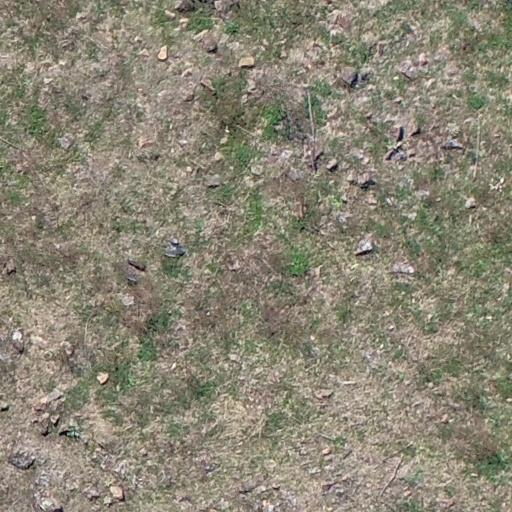stone: (8, 448, 36, 470), (355, 232, 377, 256), (38, 494, 63, 511), (201, 172, 223, 191), (389, 262, 415, 276), (200, 33, 218, 52), (58, 426, 82, 440), (58, 133, 76, 151), (213, 0, 235, 14), (342, 66, 357, 86), (108, 484, 125, 501), (238, 55, 258, 69), (174, 0, 196, 12), (400, 65, 416, 81), (286, 167, 303, 182), (388, 125, 402, 142), (128, 259, 147, 271), (244, 78, 258, 94), (438, 497, 456, 509), (156, 46, 171, 60), (35, 396, 49, 411), (83, 486, 99, 499), (358, 172, 371, 188), (202, 78, 216, 92), (464, 197, 478, 210), (408, 124, 421, 138), (317, 389, 335, 399), (182, 91, 196, 103), (96, 371, 108, 384), (326, 159, 338, 172), (367, 192, 378, 206), (383, 148, 394, 162), (213, 151, 225, 163), (49, 412, 59, 426), (59, 424, 69, 437), (346, 171, 356, 184), (40, 412, 50, 424), (424, 78, 436, 88), (278, 48, 288, 60), (138, 48, 150, 58), (321, 446, 332, 456), (165, 9, 176, 19), (407, 147, 417, 158), (322, 481, 332, 491), (7, 265, 17, 274), (219, 138, 229, 146), (2, 402, 10, 411), (442, 414, 450, 423), (272, 483, 280, 491), (336, 489, 344, 497), (424, 351, 430, 361)
